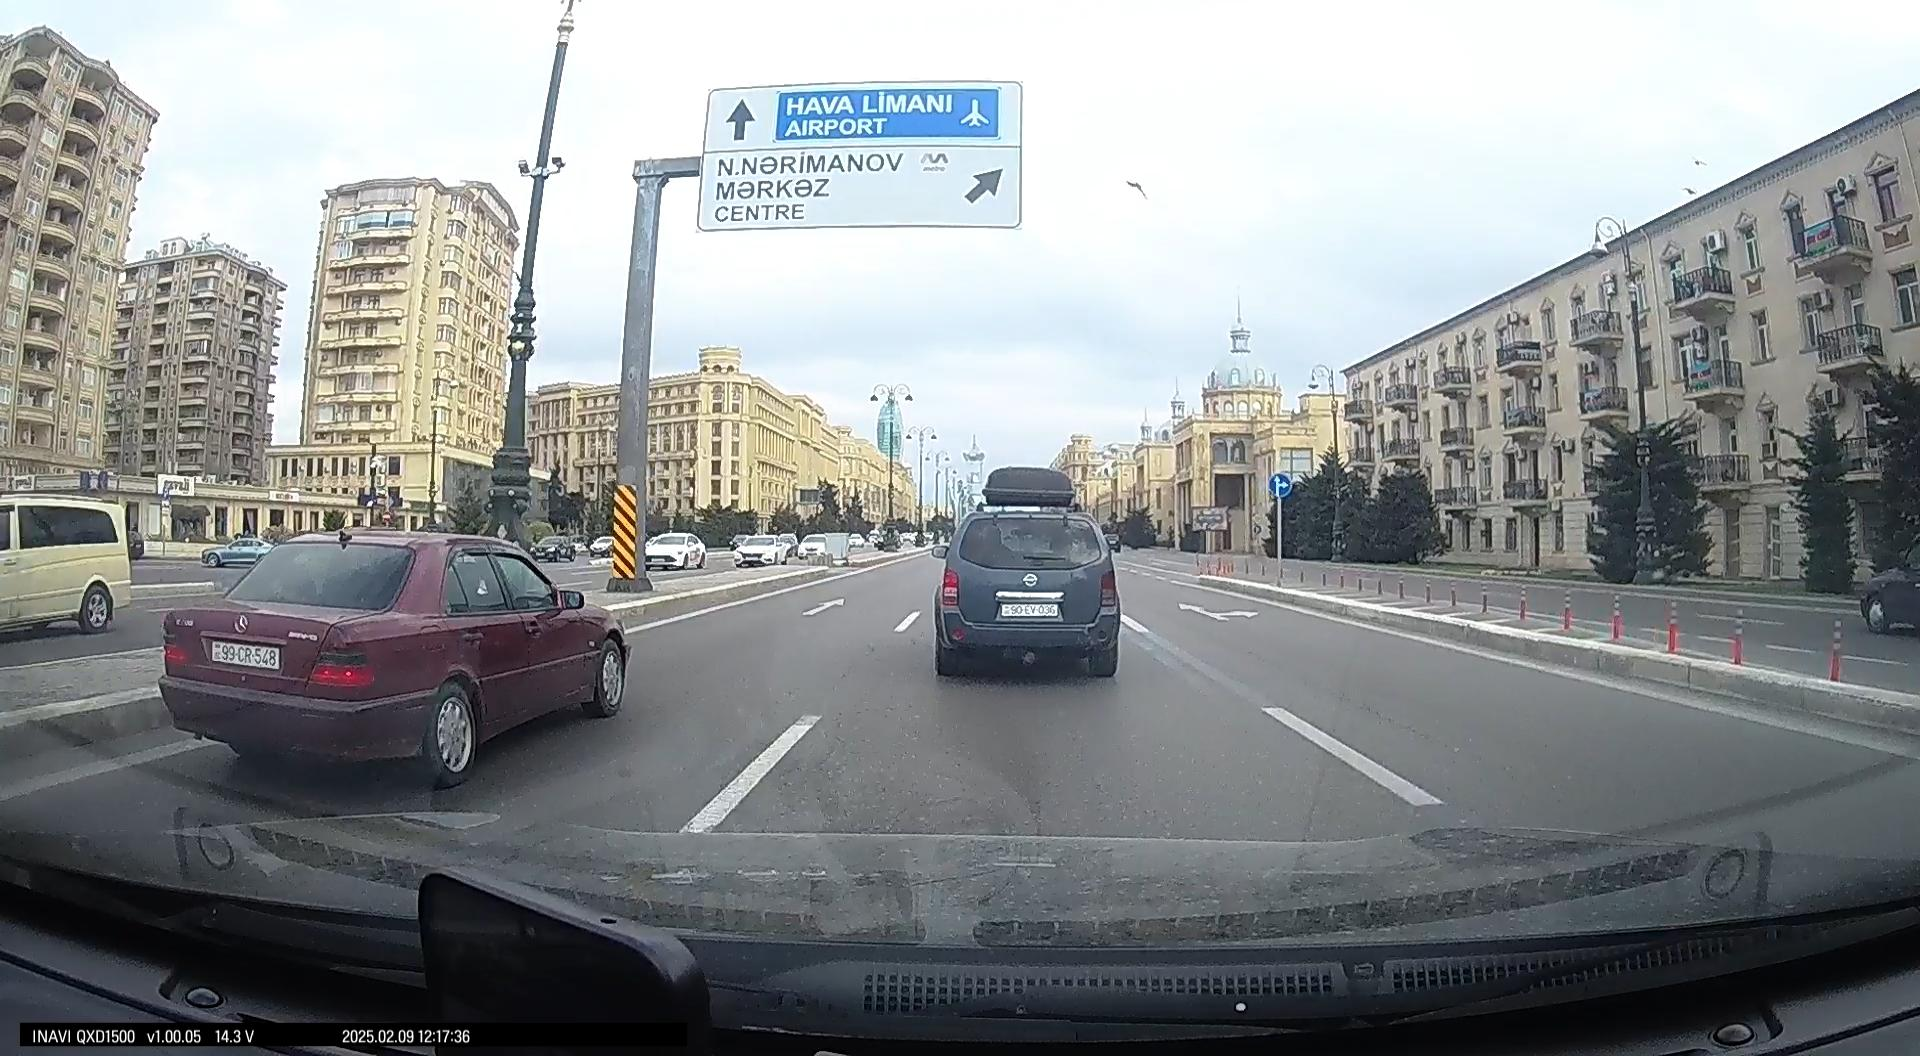banner: (698, 85, 1019, 230)
